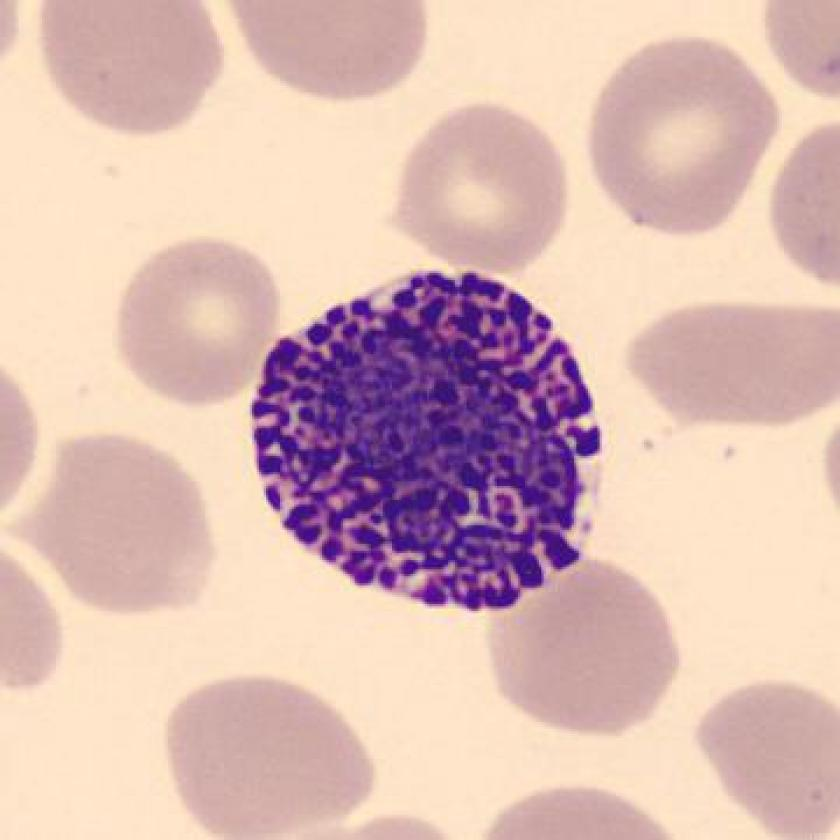basophil: (241, 258, 622, 619)
